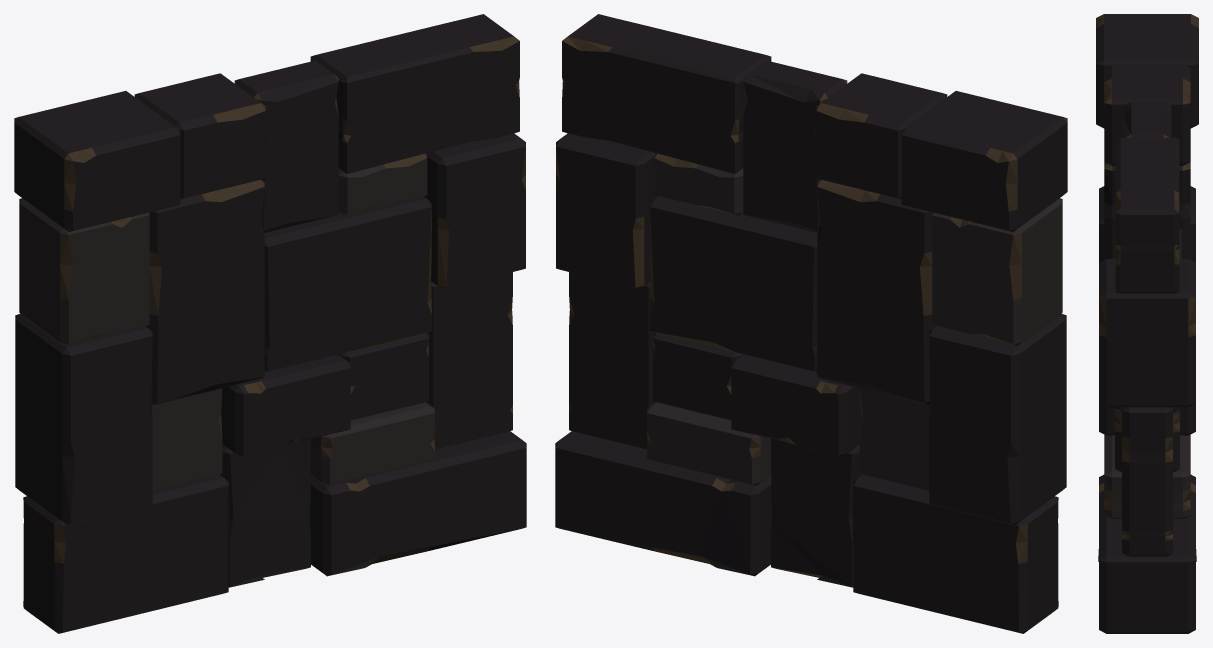
Rendered from Wall_Modular.obj.
The picture shows the model from 3 angles, left to right: view 1: azimuth 30°, elevation 25°; view 2: azimuth 150°, elevation 25°; view 3: azimuth 270°, elevation 25°; orthographic projection. The views are drawn at different scales.
Parts seen in each view (by area): view 1: Wall_Modular.2795; view 2: Wall_Modular.2795; view 3: Wall_Modular.2795.
Part boxes in pixels (<box>): Wall_Modular.2795: <box>14,14,526,633</box>; Wall_Modular.2795: <box>555,14,1067,633</box>; Wall_Modular.2795: <box>1096,14,1198,633</box>.
Bounding box in the file's own units: 2 × 2.01 × 0.4381.
